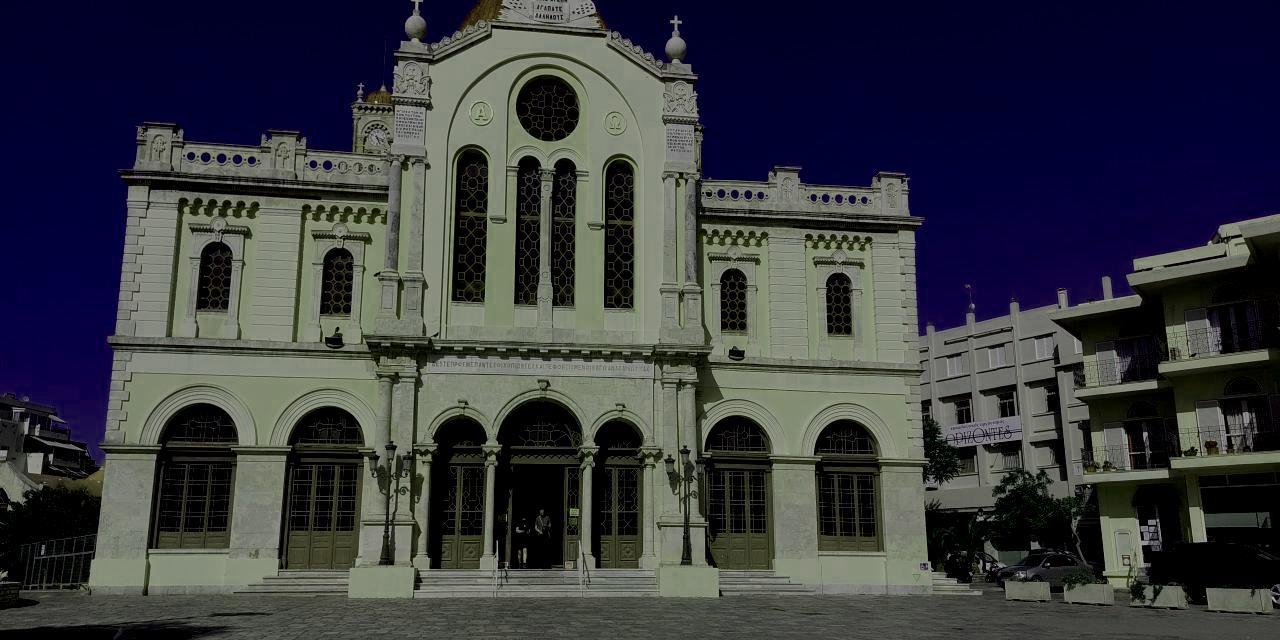Agios Minas: (85, 1, 940, 602)
